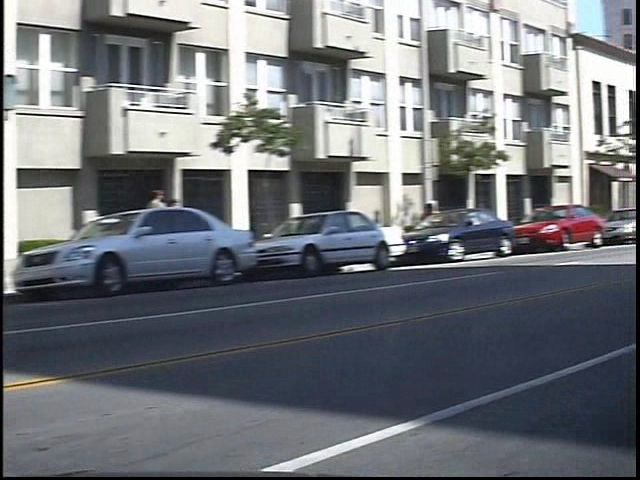person: (160, 183, 184, 262), (180, 194, 200, 258)
